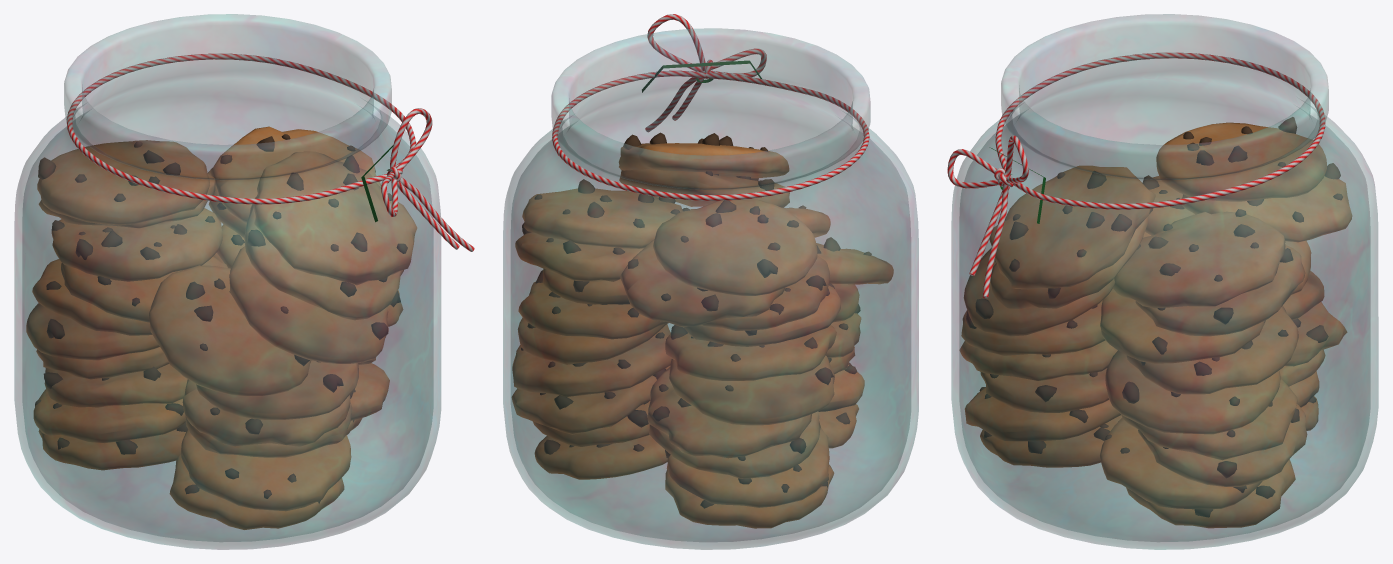
Rendered from cookies.glb.
The picture shows the model from 3 angles, left to right: view 1: azimuth 30°, elevation 25°; view 2: azimuth 150°, elevation 25°; view 3: azimuth 270°, elevation 25°; orthographic projection. The views are drawn at different scales.
Visible parts, largest first — view 1: cookies; view 2: cookies; view 3: cookies.
Boxes of the visible parts, <box> form: cookies: <box>14,14,474,549</box>; cookies: <box>503,14,918,549</box>; cookies: <box>947,14,1378,549</box>.
Size of the model in its own units: 0.218 by 0.2231 by 0.22.
Materials: 1 (1 with a texture image).
